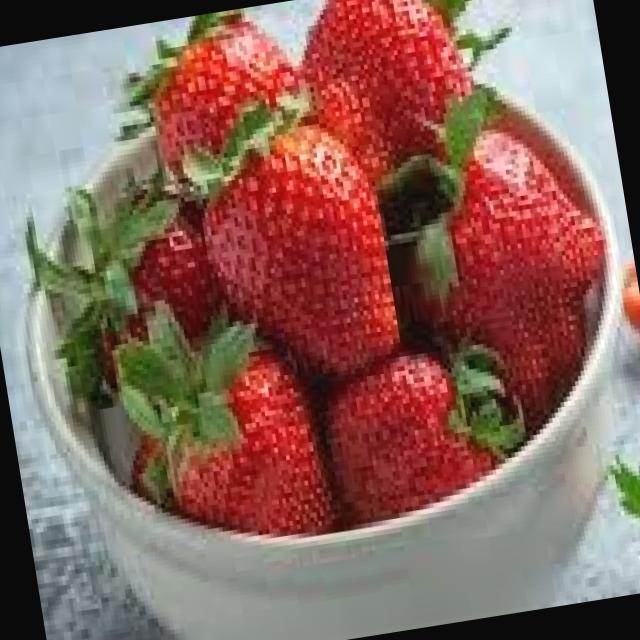strawberry: (156, 73, 416, 434), (396, 111, 628, 442), (130, 311, 338, 556), (289, 0, 484, 182), (319, 341, 501, 528)
